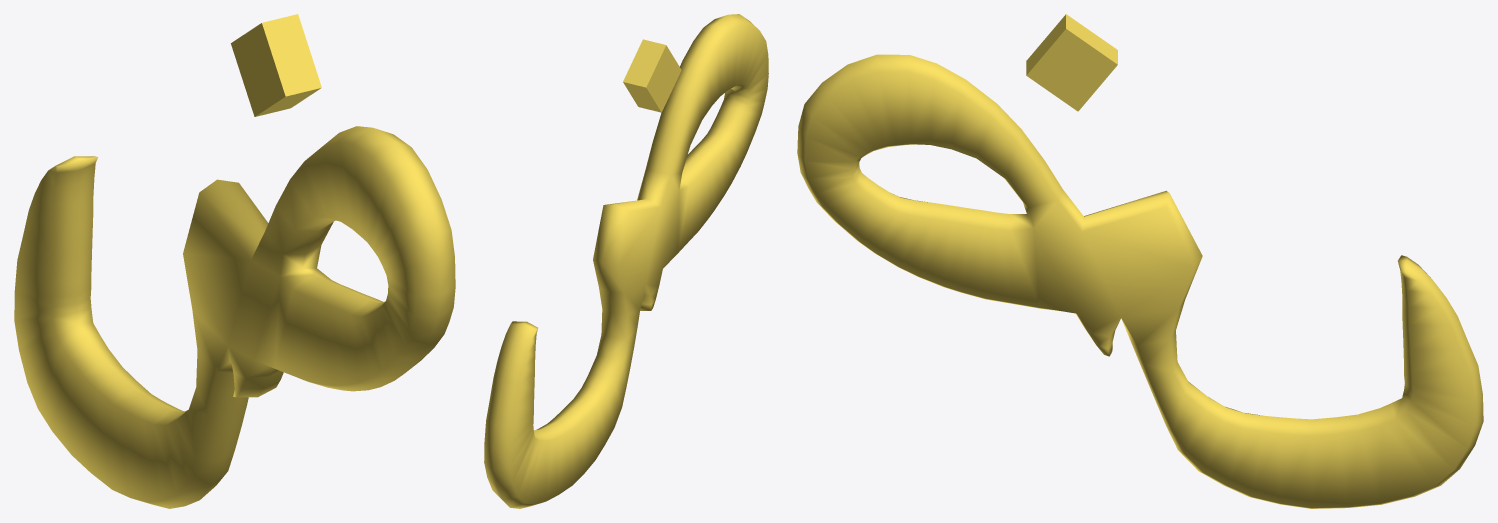
File: dad.FBX
3 renders of one model, left to right at view 1: azimuth 30°, elevation 25°; view 2: azimuth 150°, elevation 25°; view 3: azimuth 270°, elevation 25°, orthographic. The views are drawn at different scales.
Visible parts, largest first — view 1: dad; view 2: dad; view 3: dad.
Boxes of the visible parts, x1,y1,x2,y2 form: dad: (14, 14, 455, 508); dad: (484, 14, 768, 508); dad: (797, 14, 1483, 508).
Bounding box in the file's own units: 12.3 × 219 × 171.
Materials: 1 (1 with a texture image).
